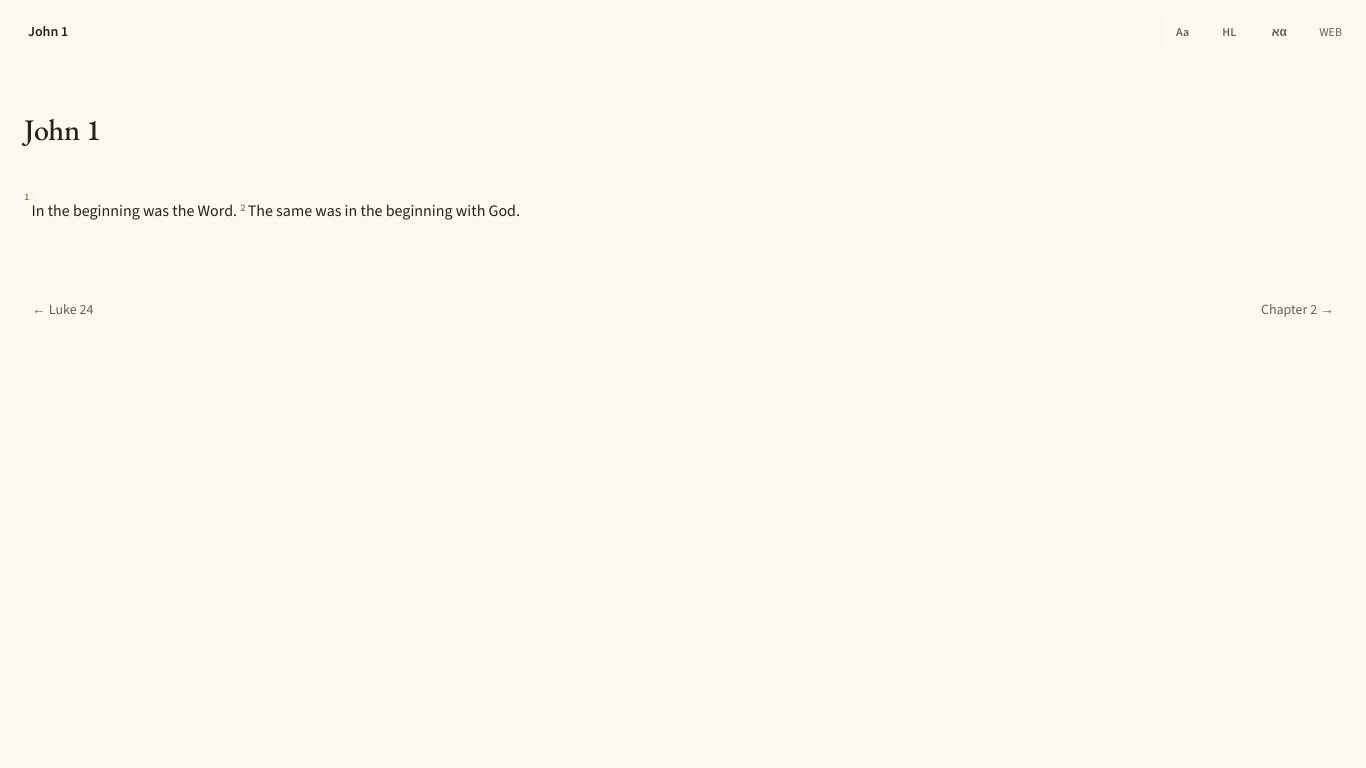
Test: A031 — opening the study dialog closes the reading-settings popover › the popover still closes on an outside mousedown, as before
This screenshot has width=1366, height=768.
Click the button "Aa".
click(1183, 32)  # box [1164, 10, 1201, 54]
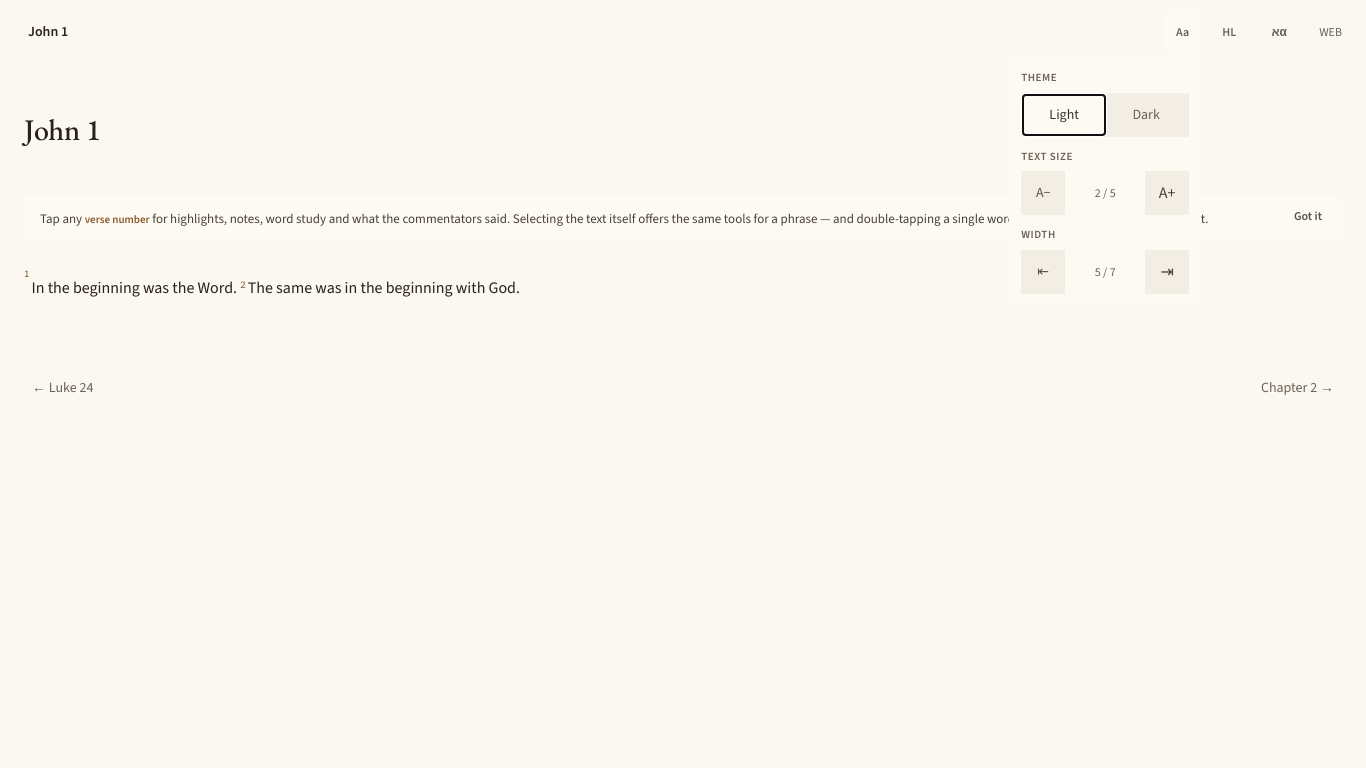
Check: the text "Text size" is shown, box [1021, 148, 1073, 164]
Press the mouse on the element that starts with "John 1" at (683, 384), box [0, 0, 1365, 767]
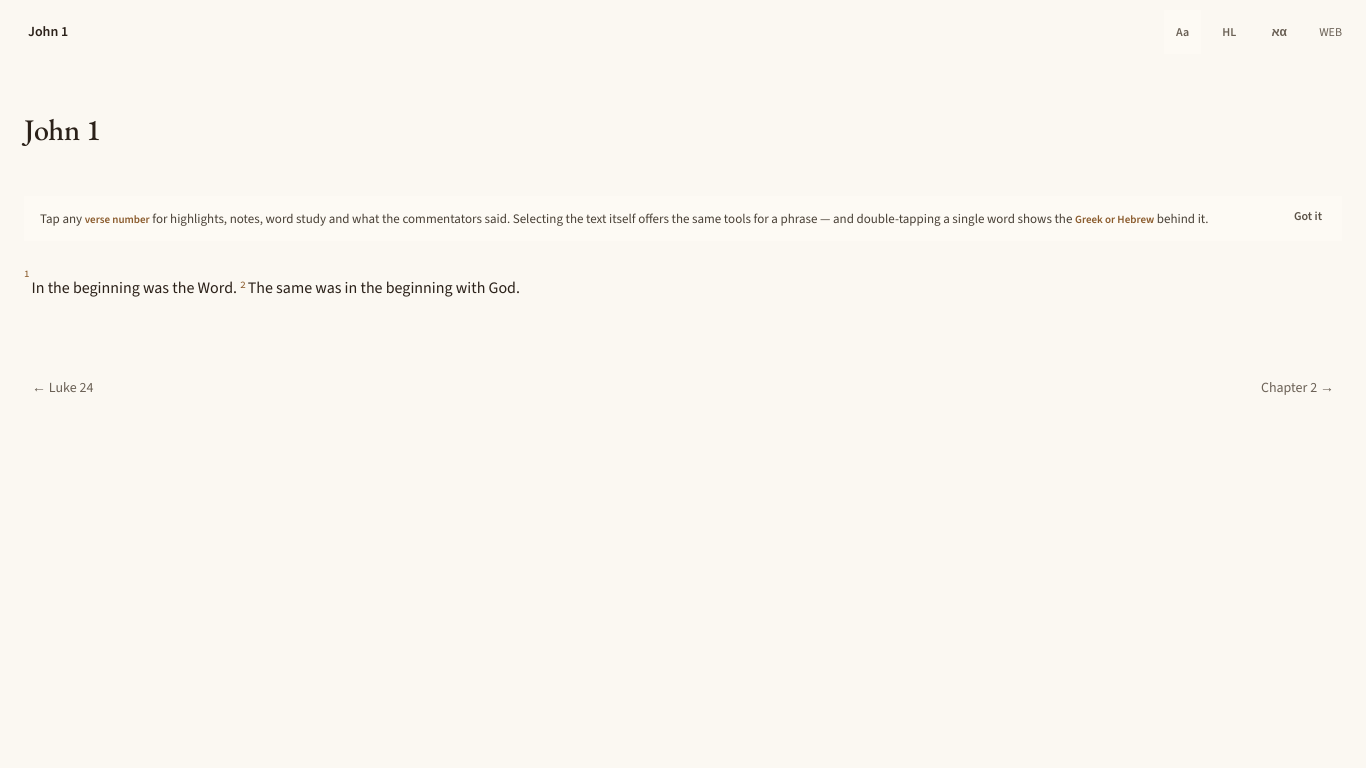
Check: the text "Text size" is gone
